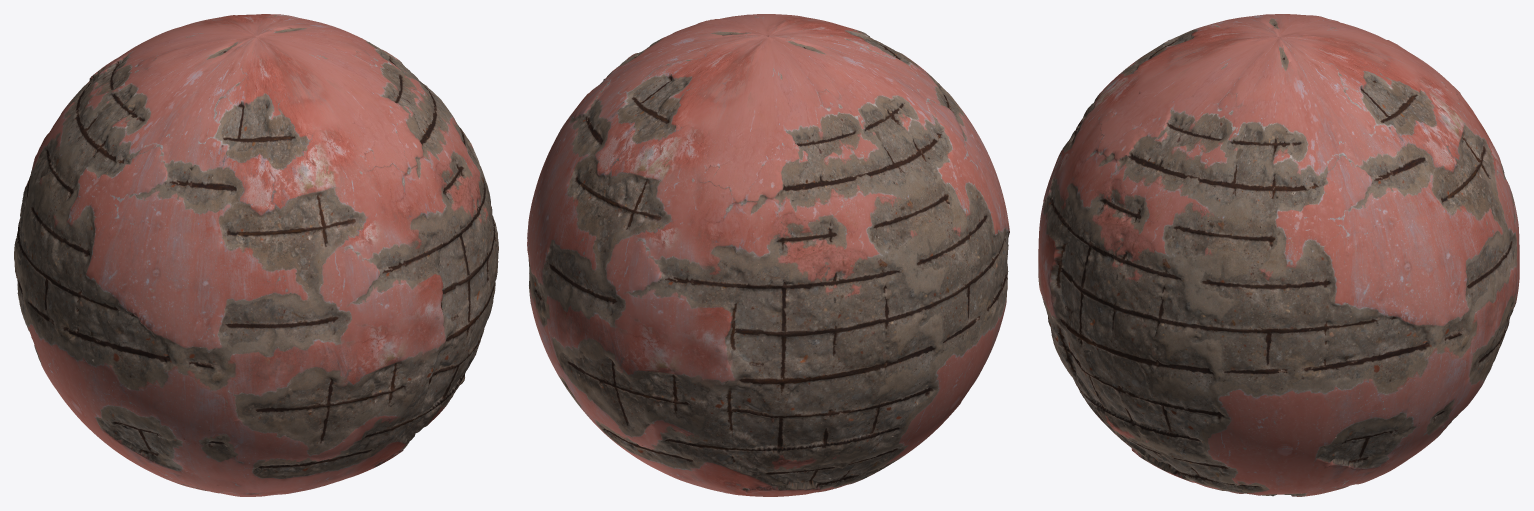
File: rebar_reinforced_concrete_2k.gltf
3 renders of one model, left to right at view 1: azimuth 30°, elevation 25°; view 2: azimuth 150°, elevation 25°; view 3: azimuth 270°, elevation 25°, orthographic.
Visible parts, largest first — view 1: sphere_gltf; view 2: sphere_gltf; view 3: sphere_gltf.
Boxes of the visible parts, box(x1,y1,x2,y2) form: sphere_gltf: box(14, 14, 498, 496); sphere_gltf: box(527, 14, 1009, 496); sphere_gltf: box(1038, 14, 1519, 496).
Size of the model in its own units: 2.01 by 2.03 by 2.02.
